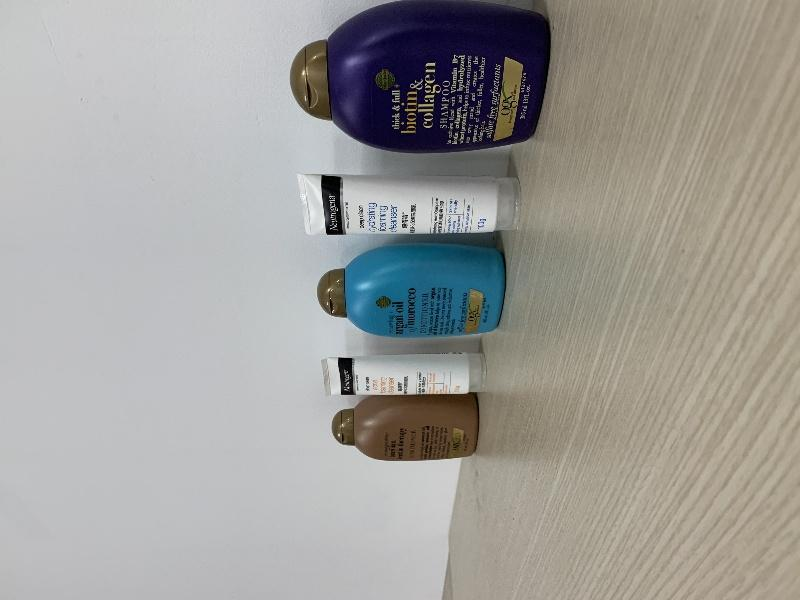AcneFoamingCleanser: (322, 351, 487, 395)
ArganOilOfMorocco_Conditioner: (317, 243, 505, 339)
BiotinCollagen_Shampoo: (290, 0, 551, 153)
BrazilianKerationTherapy_Conditioner: (332, 395, 479, 461)
HydratingFoamingCleanser: (297, 174, 520, 235)
